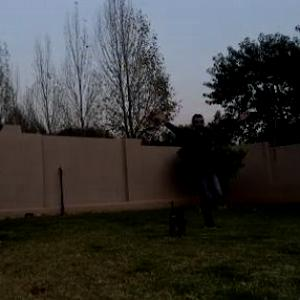takeoff: (152, 110, 245, 226)
